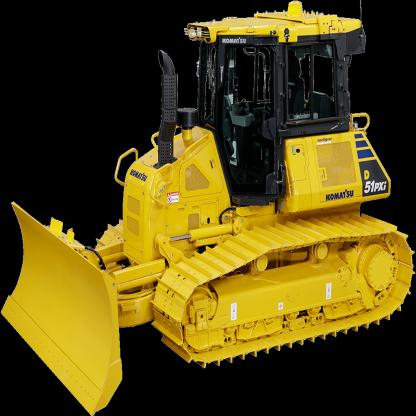bull_dozer/loader/grader: (9, 12, 385, 414)
